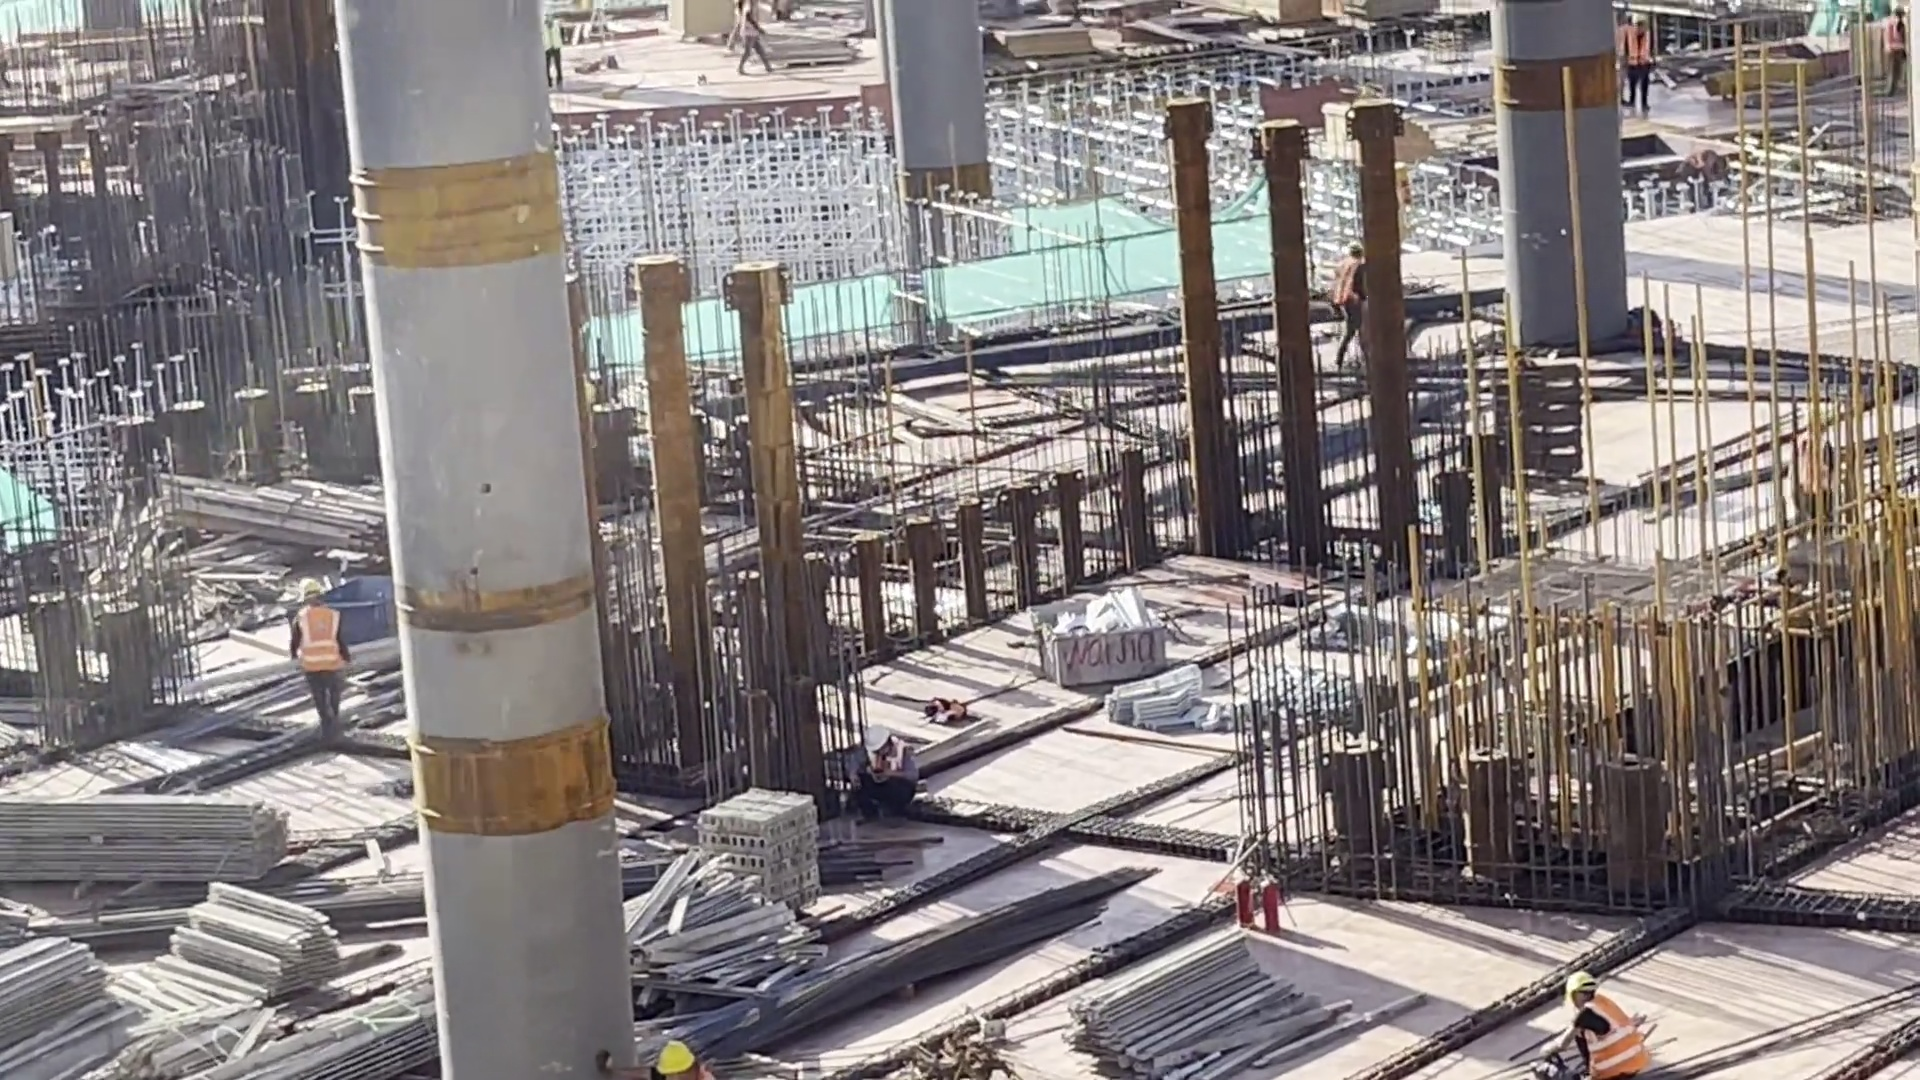helmet: (649, 1035, 700, 1072), (863, 716, 896, 756), (294, 579, 337, 602), (1565, 968, 1597, 987)
hopper: (1018, 582, 1180, 694), (325, 571, 401, 645)
person: (1523, 956, 1677, 1080), (281, 569, 358, 722), (844, 709, 931, 815), (1325, 231, 1375, 374)
vest: (1573, 1002, 1656, 1078), (292, 608, 343, 671), (1800, 437, 1836, 495), (1326, 258, 1371, 301), (1626, 20, 1651, 64), (1886, 19, 1908, 57)
wood: (1096, 891, 1331, 1080), (1, 776, 297, 912), (169, 872, 352, 1016)
